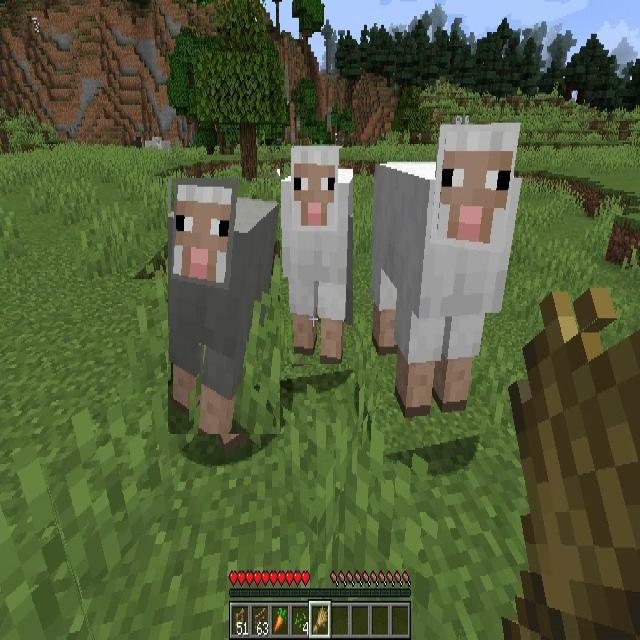sheep: (373, 122, 521, 414), (168, 178, 280, 434), (280, 148, 353, 364)
